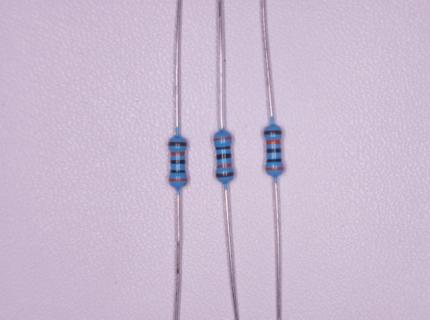Black band: (216, 152, 231, 160), (215, 145, 232, 151), (170, 159, 186, 165), (266, 148, 282, 154), (170, 169, 186, 174), (267, 158, 283, 163)
Brown band: (215, 171, 234, 178), (169, 142, 188, 147), (263, 130, 282, 135)
Orange band: (214, 136, 233, 142), (216, 163, 232, 169), (265, 166, 284, 171), (169, 178, 188, 183), (265, 139, 280, 145), (169, 151, 185, 156)
